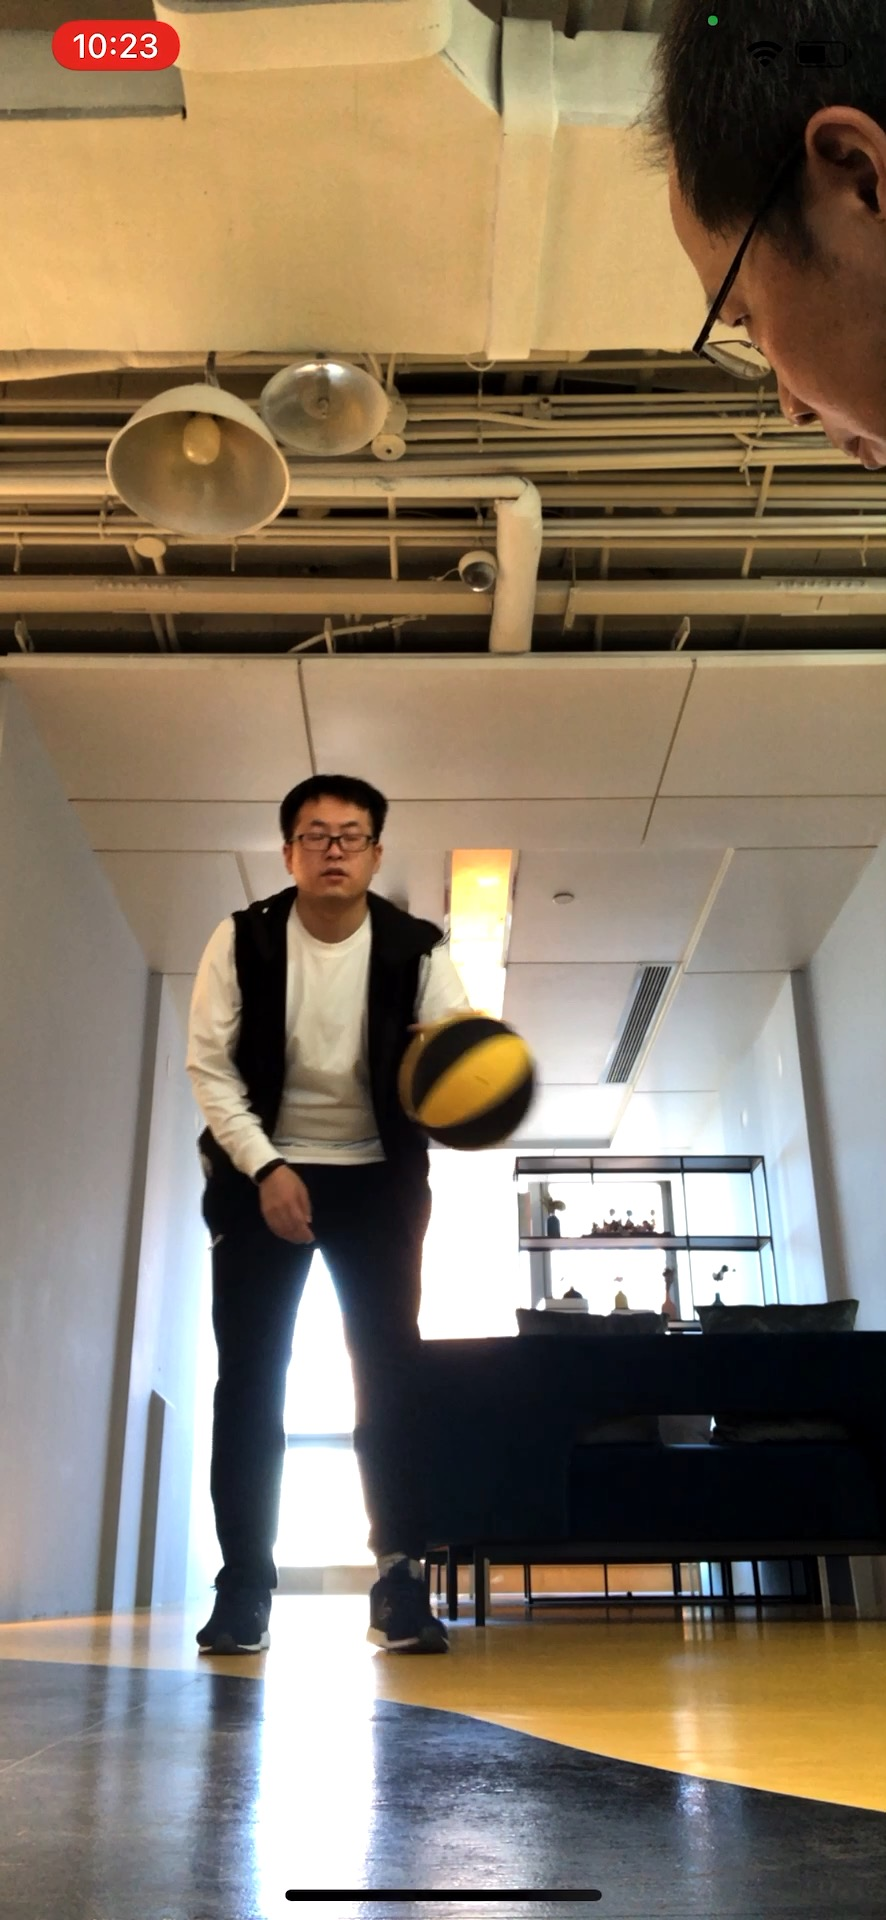ball: (396, 1014, 537, 1157)
